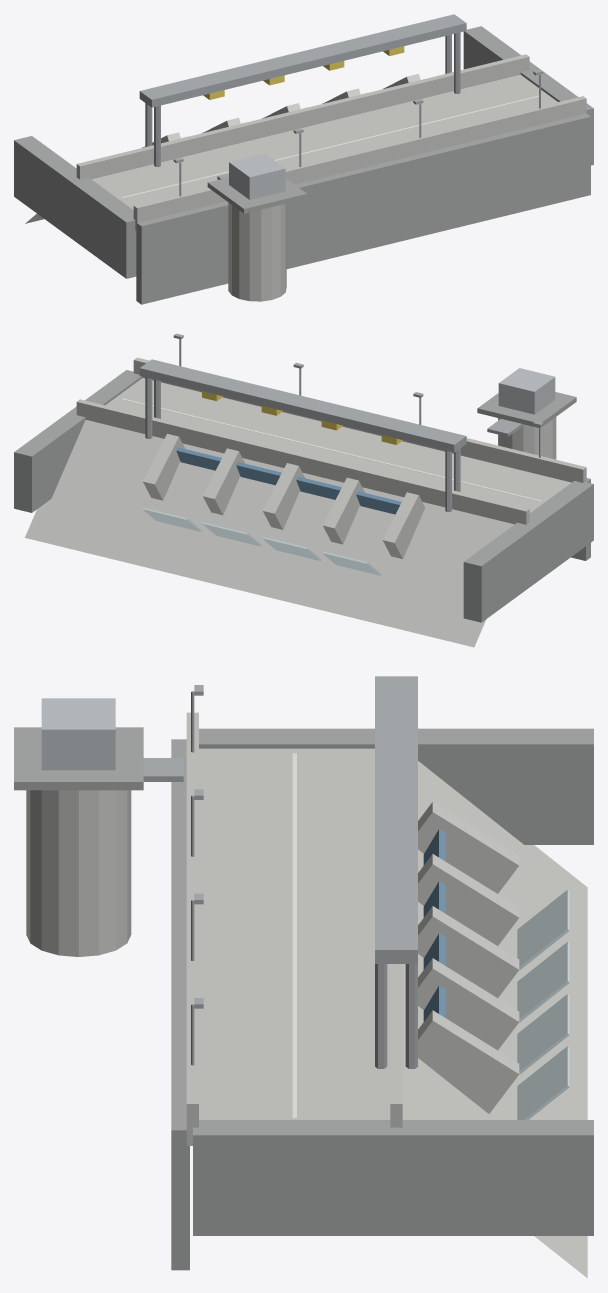
Rendered from HydroDam.glb.
3 views of the same model, one above another, from view 1: azimuth 30°, elevation 25°; view 2: azimuth 150°, elevation 25°; view 3: azimuth 270°, elevation 25° (orthographic). The views are drawn at different scales.
Visible parts, largest first — view 1: Upstream face, Crest road, Abutment, Parapet.001, Parapet, Gantry beam, Intake tower, Abutment.001, Intake house, Intake deck, Lane line, Limb.026 (+1 smaller); view 2: Downstream face, Crest road, Abutment, Parapet.001, Gantry beam, Abutment.001, Parapet, Intake house, Spillway pier, Spillway pier.003, Spillway pier.001, Spillway pier.002 (+15 smaller); view 3: Crest road, Abutment.001, Abutment, Downstream face, Intake tower, Gantry beam, Upstream face, Spillway pier.004, Intake house, Intake deck, Parapet, Spillway pier.002 (+12 smaller).
Boxes of the visible parts, left/top/right/bottom form: Upstream face: left=136, top=113, right=590, bottom=304; Crest road: left=92, top=74, right=557, bottom=231; Abutment: left=14, top=136, right=136, bottom=278; Parapet.001: left=76, top=54, right=529, bottom=179; Parapet: left=133, top=96, right=586, bottom=223; Gantry beam: left=139, top=14, right=466, bottom=107; Intake tower: left=228, top=202, right=286, bottom=301; Abutment.001: left=463, top=26, right=593, bottom=165; Intake house: left=229, top=153, right=285, bottom=199; Intake deck: left=207, top=177, right=306, bottom=213; Lane line: left=121, top=95, right=541, bottom=198; Limb.026: left=454, top=32, right=460, bottom=93; Downstream face: left=25, top=420, right=514, bottom=647; Crest road: left=105, top=378, right=571, bottom=512; Abutment: left=463, top=481, right=593, bottom=622; Parapet.001: left=76, top=399, right=529, bottom=524; Gantry beam: left=139, top=359, right=466, bottom=452; Abutment.001: left=14, top=370, right=142, bottom=512; Parapet: left=133, top=357, right=586, bottom=482; Intake house: left=498, top=368, right=555, bottom=414; Spillway pier: left=382, top=492, right=425, bottom=558; Spillway pier.003: left=203, top=448, right=245, bottom=515; Spillway pier.001: left=322, top=477, right=364, bottom=544; Spillway pier.002: left=263, top=463, right=304, bottom=529; Crest road: left=186, top=748, right=390, bottom=1145; Abutment.001: left=193, top=1120, right=593, bottom=1235; Abutment: left=199, top=728, right=593, bottom=844; Downstream face: left=402, top=761, right=587, bottom=1277; Intake tower: left=26, top=790, right=131, bottom=956; Gantry beam: left=375, top=676, right=417, bottom=963; Upstream face: left=171, top=739, right=189, bottom=1270; Spillway pier.004: left=418, top=1010, right=519, bottom=1113; Intake house: left=41, top=698, right=115, bottom=770; Intake deck: left=14, top=727, right=143, bottom=790; Parapet: left=186, top=712, right=198, bottom=1131; Spillway pier.002: left=418, top=906, right=519, bottom=998.
Size of the model in its own units: 31.2 by 9.65 by 18.8.
